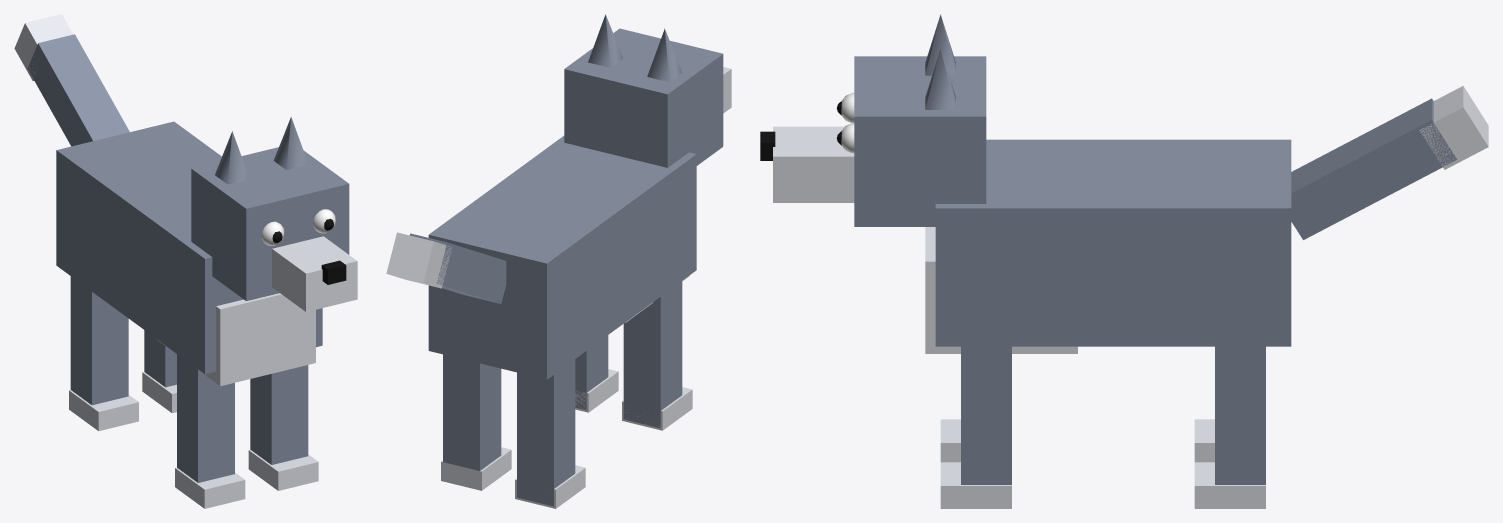
File: pet_wolf.glb
3 views of the same model, side by side, from view 1: azimuth 30°, elevation 25°; view 2: azimuth 150°, elevation 25°; view 3: azimuth 270°, elevation 25° (orthographic). The views are drawn at different scales.
Parts seen in each view (by area): view 1: pet_wolf, head, tail, leg_BR, leg_FR, leg_FL, leg_BL; view 2: pet_wolf, head, leg_BR, leg_FR, leg_BL, tail, leg_FL; view 3: pet_wolf, head, tail, leg_FL, leg_BL, leg_FR, leg_BR.
Boxes of the visible parts, <box> form: pet_wolf: <box>56,121,322,386</box>; head: <box>191,117,357,311</box>; tail: <box>14,14,129,146</box>; leg_BR: <box>69,276,138,431</box>; leg_FR: <box>175,354,245,508</box>; leg_FL: <box>248,365,318,490</box>; leg_BL: <box>142,330,176,413</box>; pet_wolf: <box>428,136,696,379</box>; head: <box>564,14,731,167</box>; leg_BR: <box>515,359,585,508</box>; leg_FR: <box>622,281,692,430</box>; leg_BL: <box>441,354,511,490</box>; tail: <box>386,232,506,303</box>; leg_FL: <box>575,335,618,412</box>; pet_wolf: <box>925,139,1291,353</box>; head: <box>760,14,986,226</box>; tail: <box>1291,86,1488,239</box>; leg_FL: <box>940,346,1011,508</box>; leg_BL: <box>1194,346,1265,508</box>; leg_FR: <box>940,419,960,462</box>; leg_BR: <box>1194,419,1214,462</box>.
Bounding box in the file's own units: 0.32 × 0.965 × 1.43.
